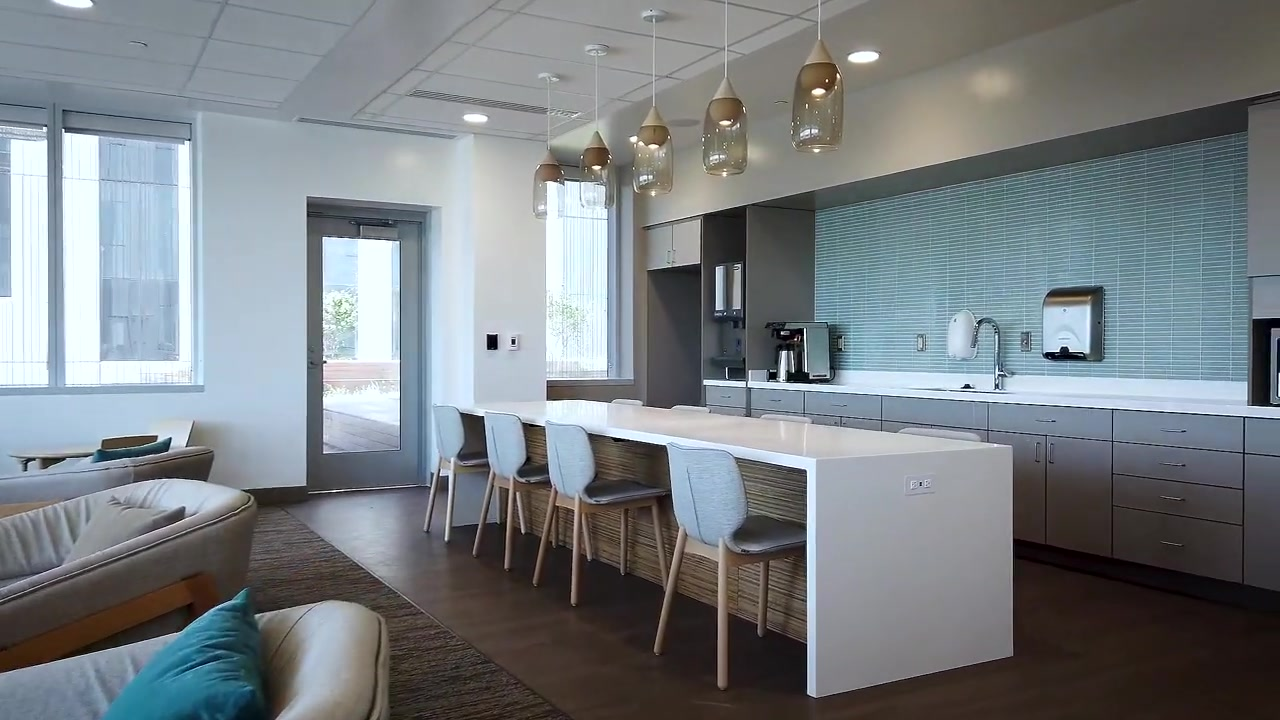cabinet: (643, 213, 703, 274)
chair: (651, 443, 807, 690), (530, 420, 670, 607), (472, 412, 594, 573), (424, 405, 530, 543), (152, 420, 195, 449), (99, 434, 158, 451)
counter: (454, 396, 1008, 674), (754, 380, 1280, 573)
countertop: (449, 398, 1013, 470), (703, 381, 1280, 421)
dispenser: (1041, 285, 1105, 362), (947, 309, 978, 361)
door_handle: (308, 357, 327, 368)
faucet: (970, 318, 1012, 391)
handle: (1159, 538, 1184, 549), (1158, 493, 1185, 503), (1157, 460, 1186, 468), (1047, 443, 1058, 464), (1033, 440, 1042, 463), (1159, 428, 1186, 435), (666, 248, 676, 264), (1034, 419, 1058, 424), (830, 404, 848, 408), (769, 398, 781, 402), (721, 395, 732, 399)
sofa: (1, 479, 258, 672), (1, 600, 390, 720), (1, 446, 214, 503)
table: (8, 449, 96, 472)
